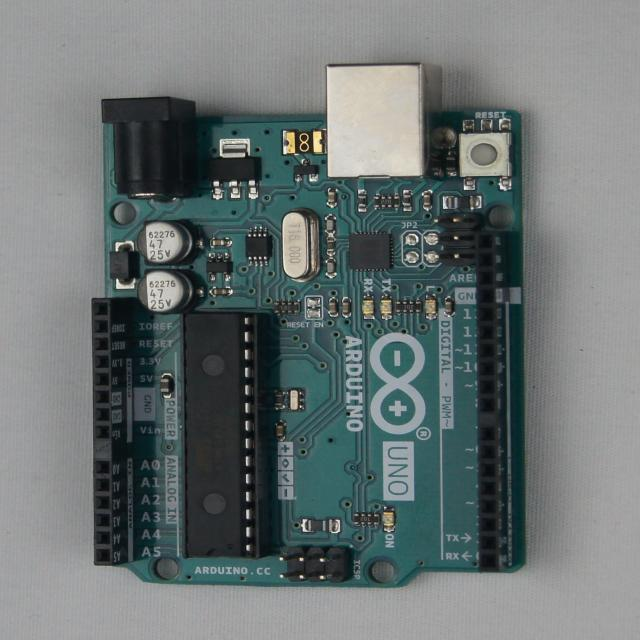Arduino Uno -Green-: (93, 65, 523, 587)
